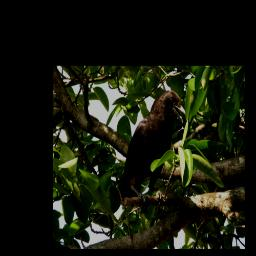Crow: (118, 88, 188, 207)
